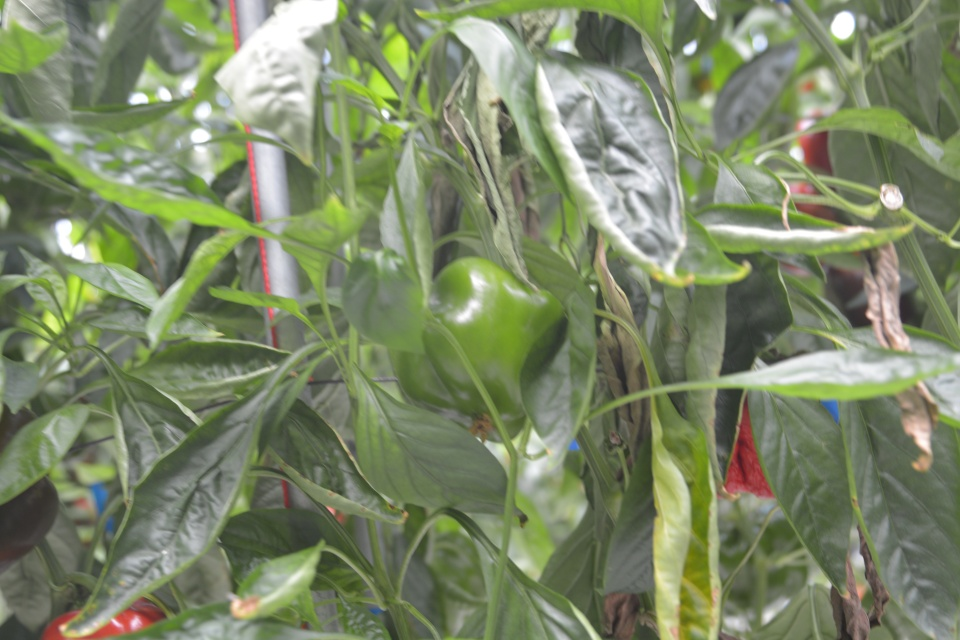fruit: (387, 254, 570, 445), (0, 405, 60, 563), (40, 592, 167, 640), (724, 392, 776, 498)
